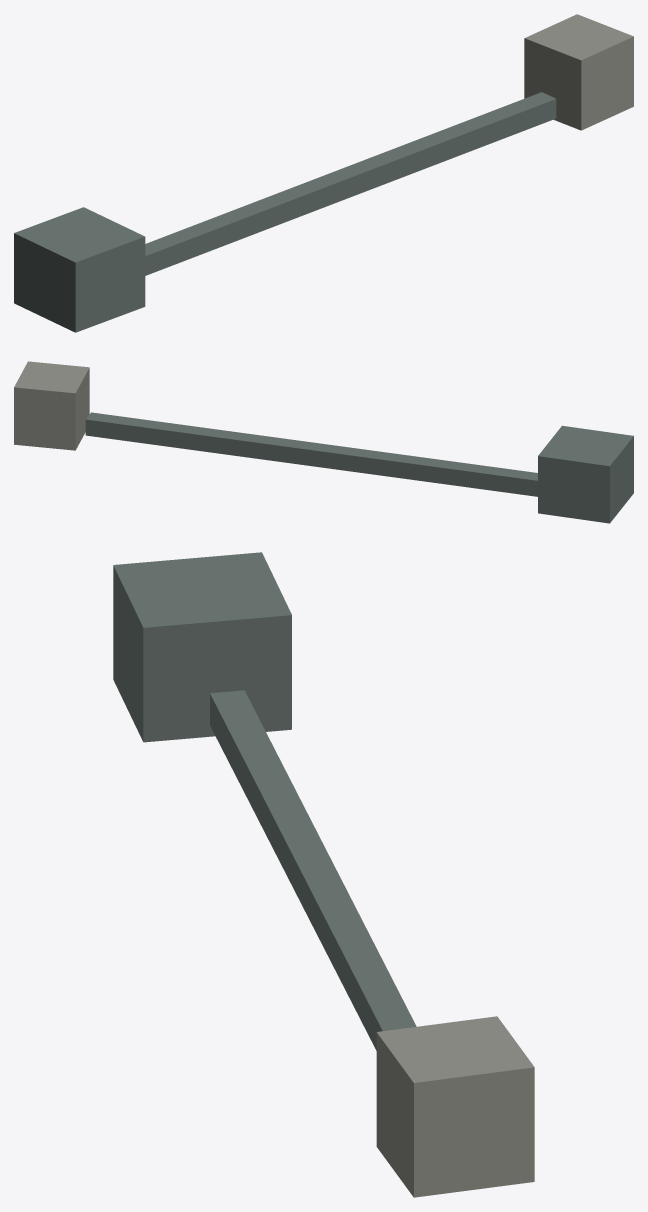
File: SM_Farola_v4_LOD0.fbx
3 views of the same model, one above another, from view 1: azimuth 30°, elevation 25°; view 2: azimuth 150°, elevation 25°; view 3: azimuth 270°, elevation 25° (orthographic). The views are drawn at different scales.
Visible parts, largest first — view 1: SM_urbano_v9_LOD0; view 2: SM_urbano_v9_LOD0; view 3: SM_urbano_v9_LOD0.
Boxes of the visible parts, <box> form: SM_urbano_v9_LOD0: <box>14,14,633,332</box>; SM_urbano_v9_LOD0: <box>14,361,633,523</box>; SM_urbano_v9_LOD0: <box>113,552,534,1197</box>.
Bounding box in the file's own units: 4.97 × 0.5 × 1.67.
